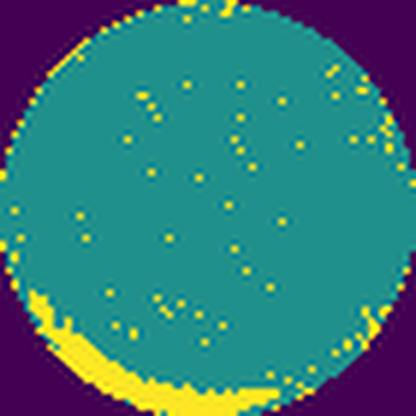Edge-Loc: (21, 283, 289, 416)
